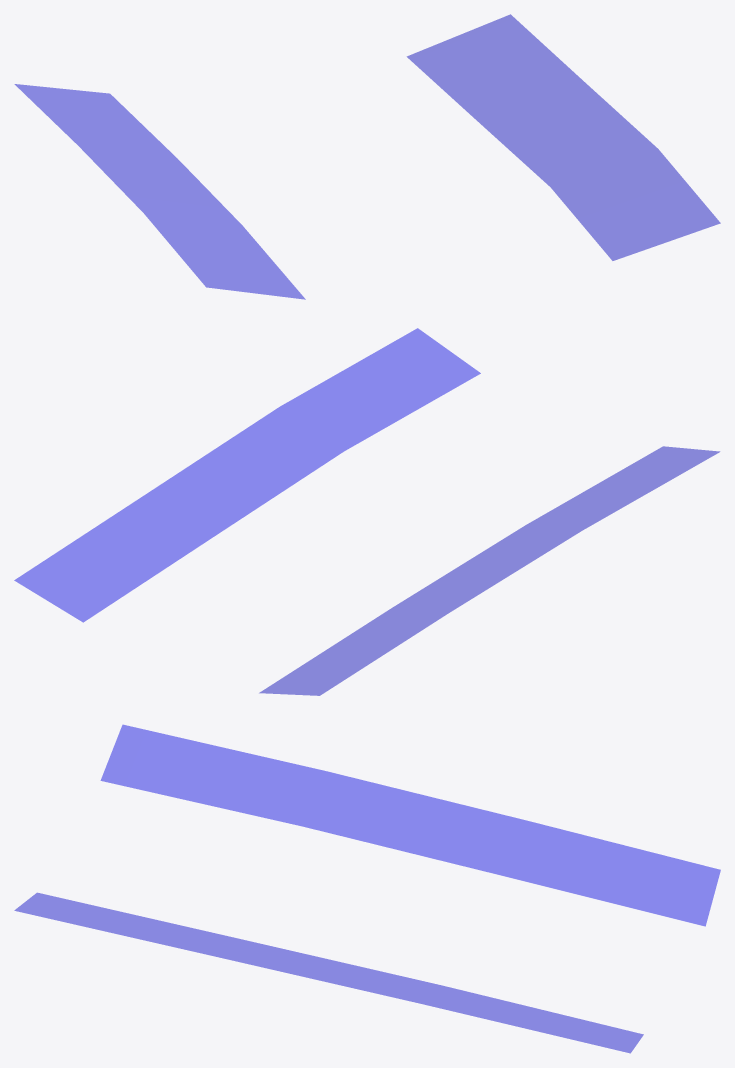
Rendered from track_la_coll_off_15.fbx.
3 renders of one model, top to bottom at view 1: azimuth 30°, elevation 25°; view 2: azimuth 150°, elevation 25°; view 3: azimuth 270°, elevation 25°, orthographic. The views are drawn at different scales.
Parts seen in each view (by area): view 1: track_la_coll_off_15; view 2: track_la_coll_off_15; view 3: track_la_coll_off_15.
Part boxes in pixels (x1,y1,x2,y2): track_la_coll_off_15: (14,14,720,299); track_la_coll_off_15: (14,328,719,695); track_la_coll_off_15: (14,724,720,1053).
Bounding box in the file's own units: 47.91 × 8.98 × 57.21.
